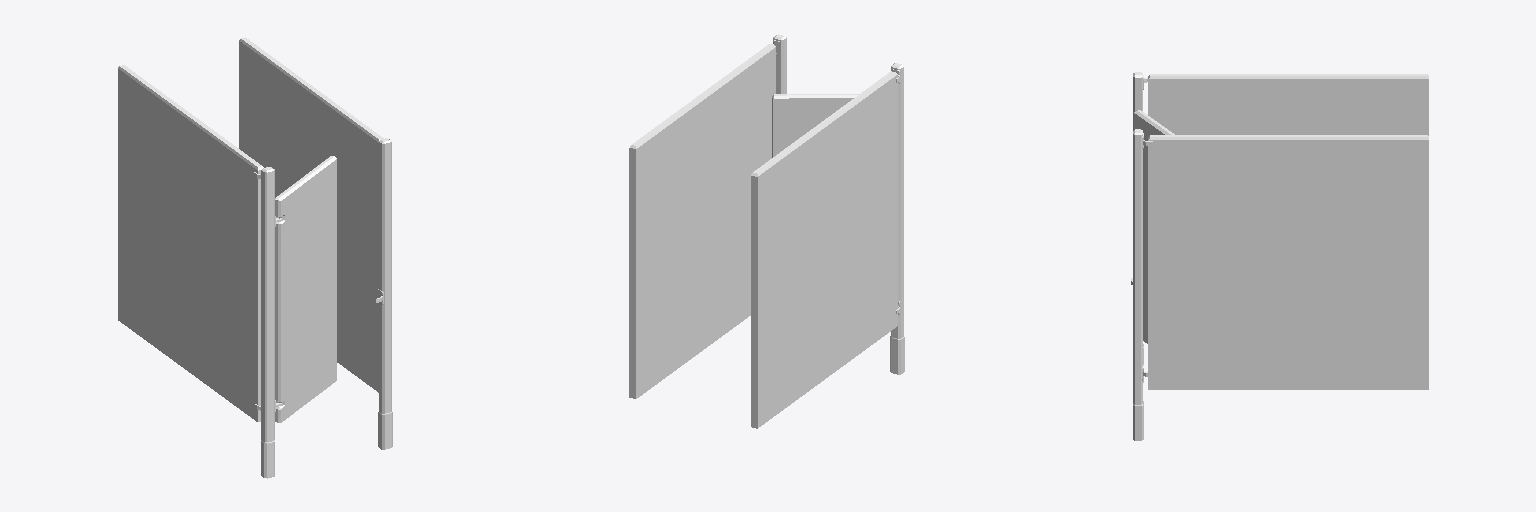
Rendered from bath_closed.obj.
The picture shows the model from 3 angles: view 1: azimuth 30°, elevation 25°; view 2: azimuth 150°, elevation 25°; view 3: azimuth 270°, elevation 25°; orthographic projection.
Parts seen in each view (by area): view 1: Mesh_0.001_Mesh_0.001_DIFFUSE.001; view 2: Mesh_0.001_Mesh_0.001_DIFFUSE.001; view 3: Mesh_0.001_Mesh_0.001_DIFFUSE.001.
Boxes of the visible parts, x1,y1,x2,y2 form: Mesh_0.001_Mesh_0.001_DIFFUSE.001: [118, 37, 392, 478]; Mesh_0.001_Mesh_0.001_DIFFUSE.001: [629, 34, 904, 428]; Mesh_0.001_Mesh_0.001_DIFFUSE.001: [1131, 72, 1428, 440].
Size of the model in its own units: 0.9123 by 2.05 by 1.8.